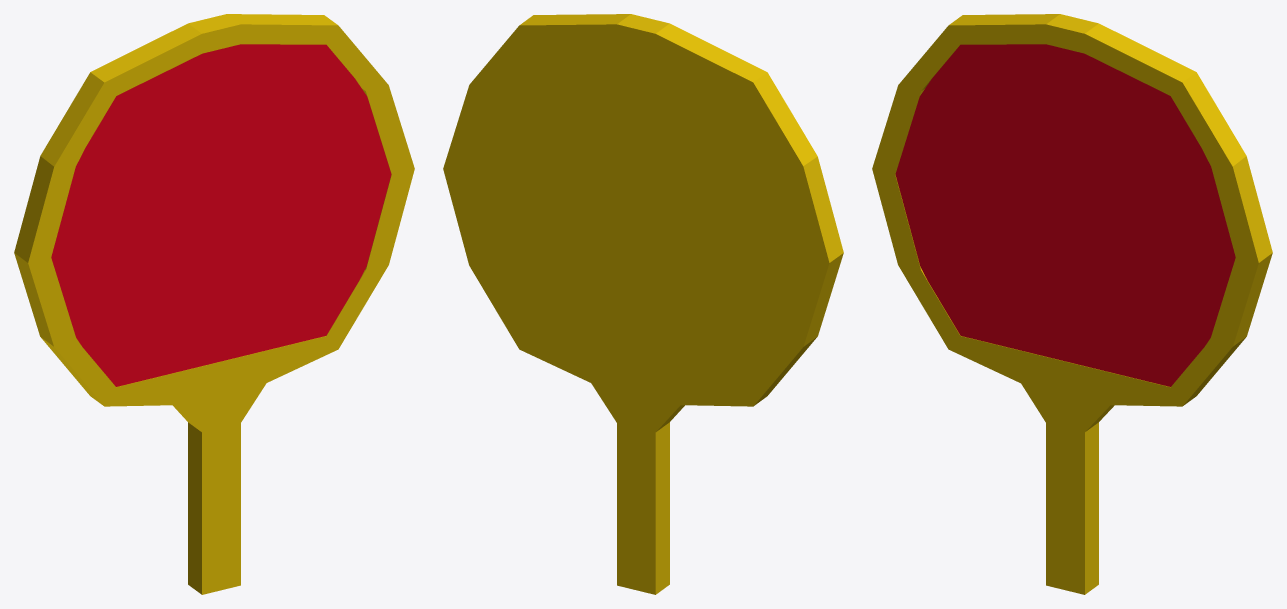
Rendered from SM_Mirror_small.fbx.
3 views of the same model, side by side, from view 1: azimuth 30°, elevation 25°; view 2: azimuth 150°, elevation 25°; view 3: azimuth 330°, elevation 25° (orthographic).
Visible parts, largest first — view 1: SM_Mirror_small.002; view 2: SM_Mirror_small.002; view 3: SM_Mirror_small.002.
Boxes of the visible parts, box(x1,y1,x2,y2) form: SM_Mirror_small.002: box(14, 14, 414, 594); SM_Mirror_small.002: box(443, 14, 843, 594); SM_Mirror_small.002: box(872, 14, 1272, 594).
Size of the model in its own units: 0.6151 by 0.0391 by 0.8528.
